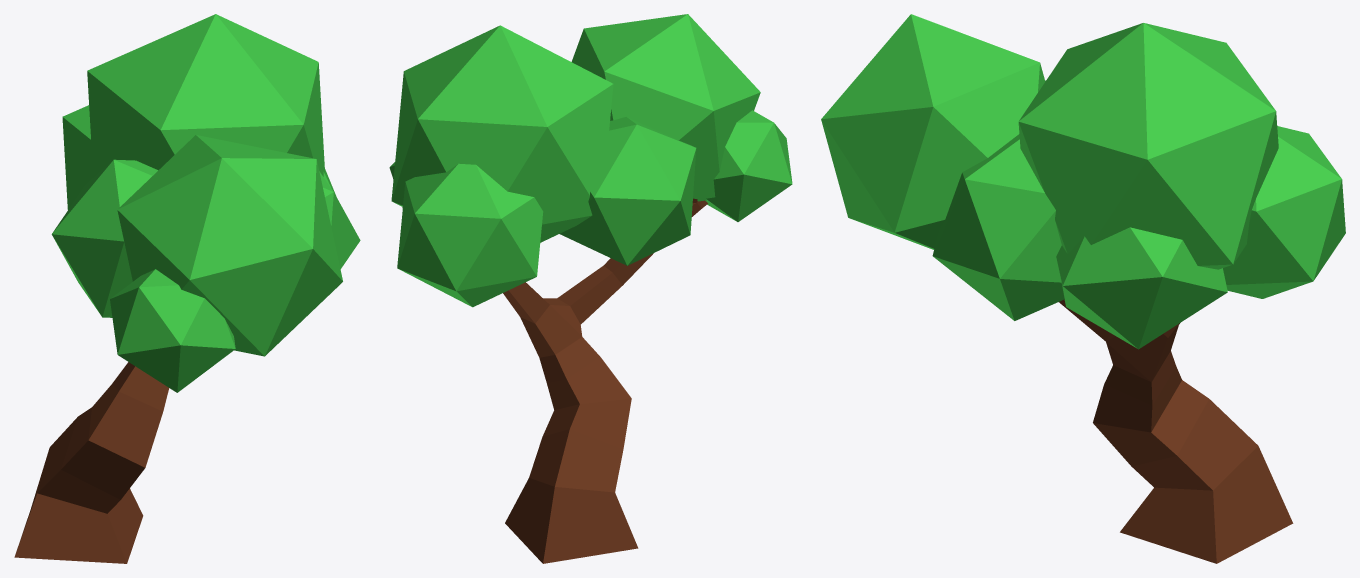
The model's file is FixeddrzewoUno.fbx.
The picture shows the model from 3 angles, left to right: view 1: azimuth 30°, elevation 25°; view 2: azimuth 150°, elevation 25°; view 3: azimuth 270°, elevation 25°; orthographic projection. The views are drawn at different scales.
Parts seen in each view (by area): view 1: Kula ico.001; view 2: Kula ico.001; view 3: Kula ico.001.
Part boxes in pixels (left/top/right/bottom): Kula ico.001: left=14, top=14, right=360, bottom=563; Kula ico.001: left=389, top=14, right=792, bottom=563; Kula ico.001: left=821, top=14, right=1345, bottom=563.
Bounding box in the file's own units: 1660 × 2531 × 2139.
